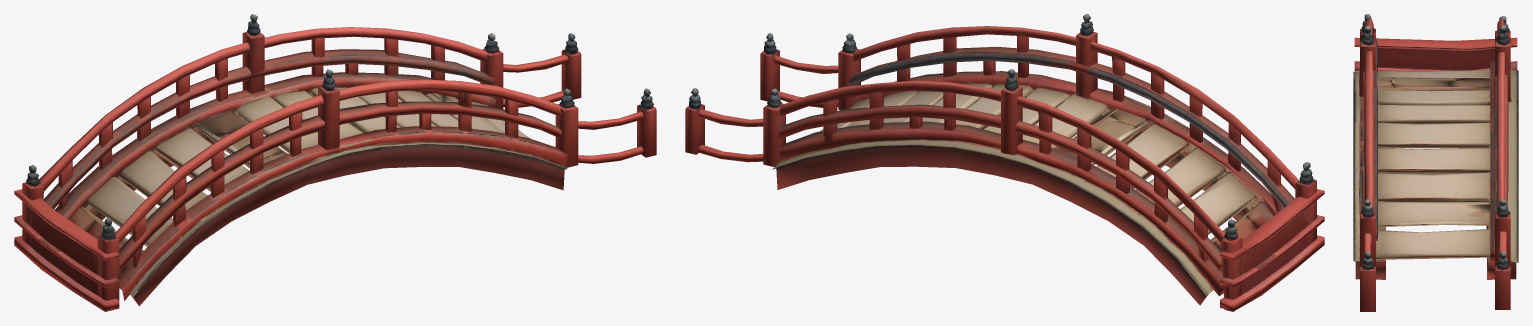
Rendered from bridge.glb.
3 renders of one model, left to right at view 1: azimuth 30°, elevation 25°; view 2: azimuth 150°, elevation 25°; view 3: azimuth 270°, elevation 25°, orthographic. The views are drawn at different scales.
Visible parts, largest first — view 1: Vermilion Arched Garden Bridge; view 2: Vermilion Arched Garden Bridge; view 3: Vermilion Arched Garden Bridge.
Part boxes in pixels (box(x1,y1,x2,y2)): Vermilion Arched Garden Bridge: box(14, 14, 656, 311); Vermilion Arched Garden Bridge: box(685, 14, 1324, 311); Vermilion Arched Garden Bridge: box(1353, 14, 1518, 311).
Size of the model in its own units: 0.998 by 0.3184 by 0.2871.
Materials: 1 (1 with a texture image).
